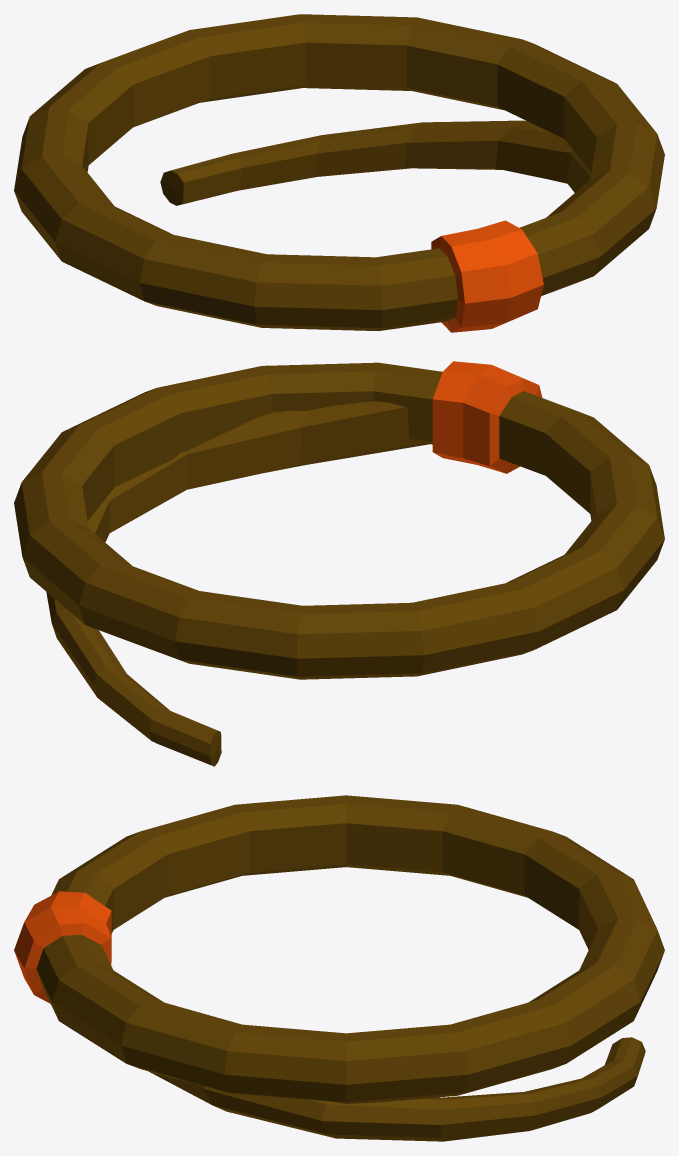
File: Lasso.fbx
3 renders of one model, top to bottom at view 1: azimuth 30°, elevation 25°; view 2: azimuth 150°, elevation 25°; view 3: azimuth 270°, elevation 25°, orthographic. The views are drawn at different scales.
Parts seen in each view (by area): view 1: Lasso; view 2: Lasso; view 3: Lasso.
Boxes of the visible parts, x1,y1,x2,y2 form: Lasso: [14, 14, 664, 332]; Lasso: [14, 361, 664, 766]; Lasso: [14, 795, 664, 1141].
Bounding box in the file's own units: 205 × 61.06 × 209.
